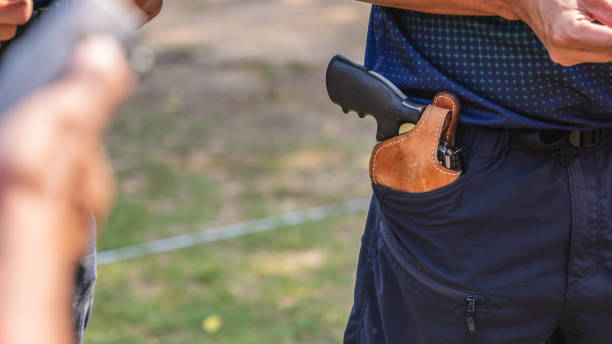gun: (326, 54, 465, 191)
